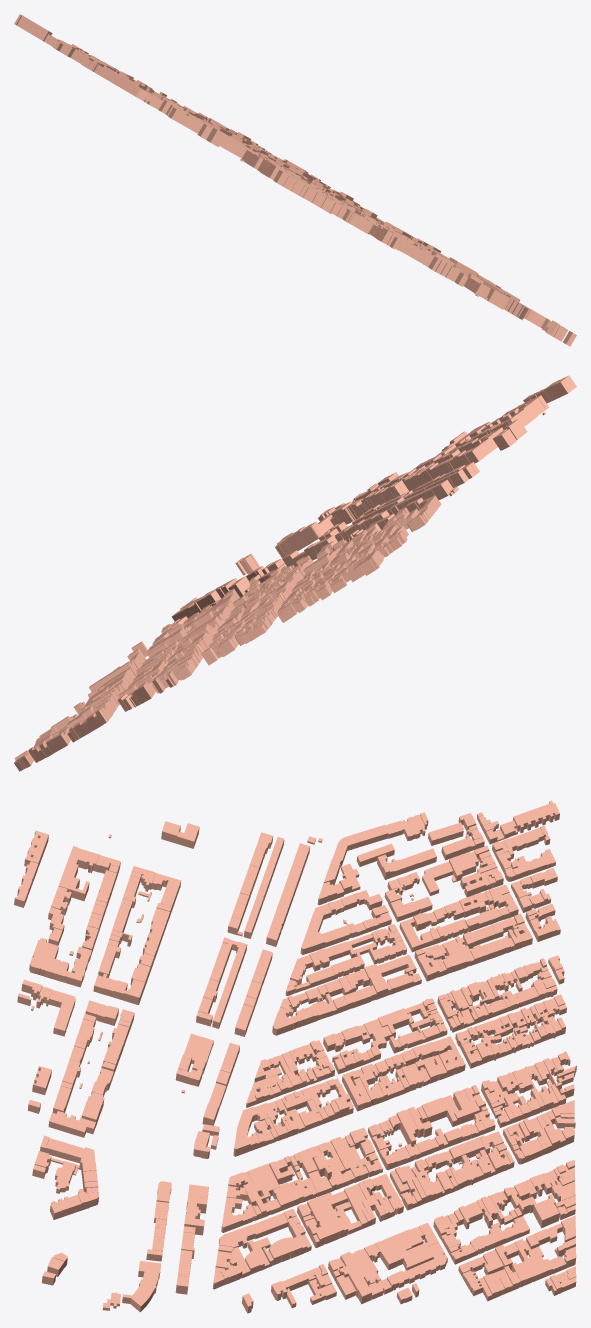
The picture shows the model from 3 angles, top to bottom: view 1: azimuth 30°, elevation 25°; view 2: azimuth 150°, elevation 25°; view 3: azimuth 270°, elevation 25°; orthographic projection. The views are drawn at different scales.
Size of the model in its own units: 539 by 392 by 629.
